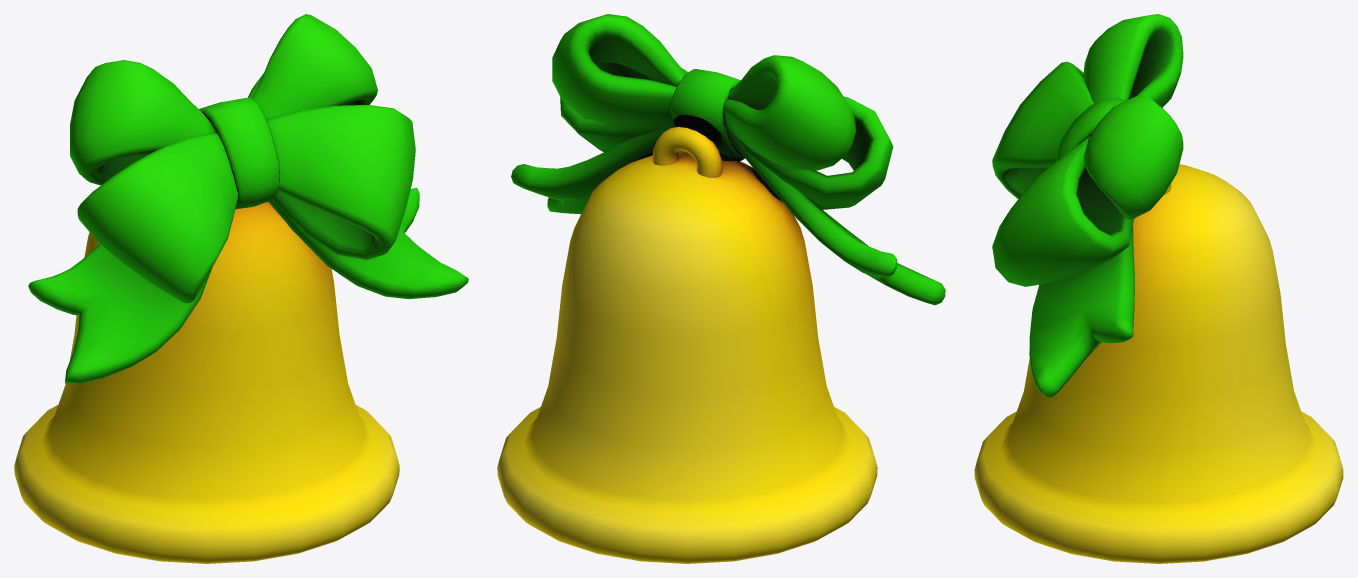
The model's file is qizi_01.FBX.
The picture shows the model from 3 angles, left to right: view 1: azimuth 30°, elevation 25°; view 2: azimuth 150°, elevation 25°; view 3: azimuth 270°, elevation 25°; orthographic projection. The views are drawn at different scales.
Parts seen in each view (by area): view 1: qizi_01; view 2: qizi_01; view 3: qizi_01.
Part boxes in pixels (bbox=[...]): qizi_01: bbox=[14, 14, 468, 563]; qizi_01: bbox=[497, 14, 945, 563]; qizi_01: bbox=[974, 14, 1343, 563].
Bounding box in the file's own units: 84.1 × 104 × 69.65.
Materials: 1 (1 with a texture image).
